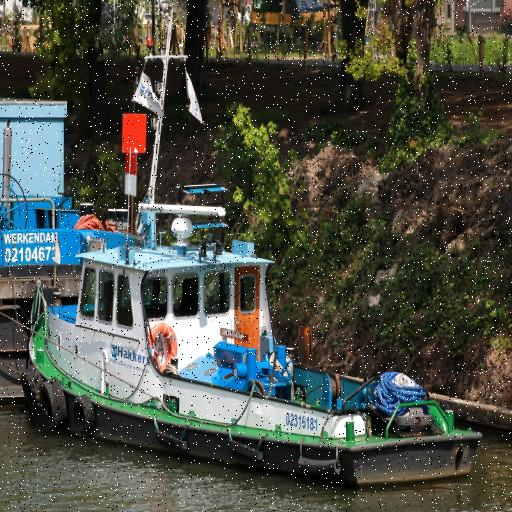tugboat: (20, 196, 486, 498)
